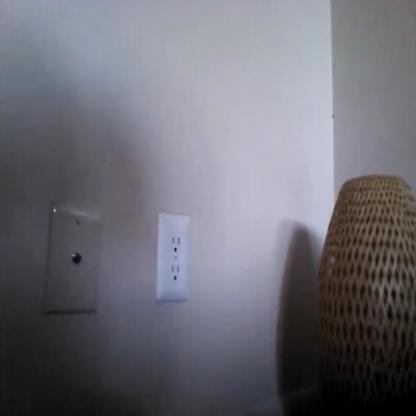OUTLET: (156, 211, 191, 302)
